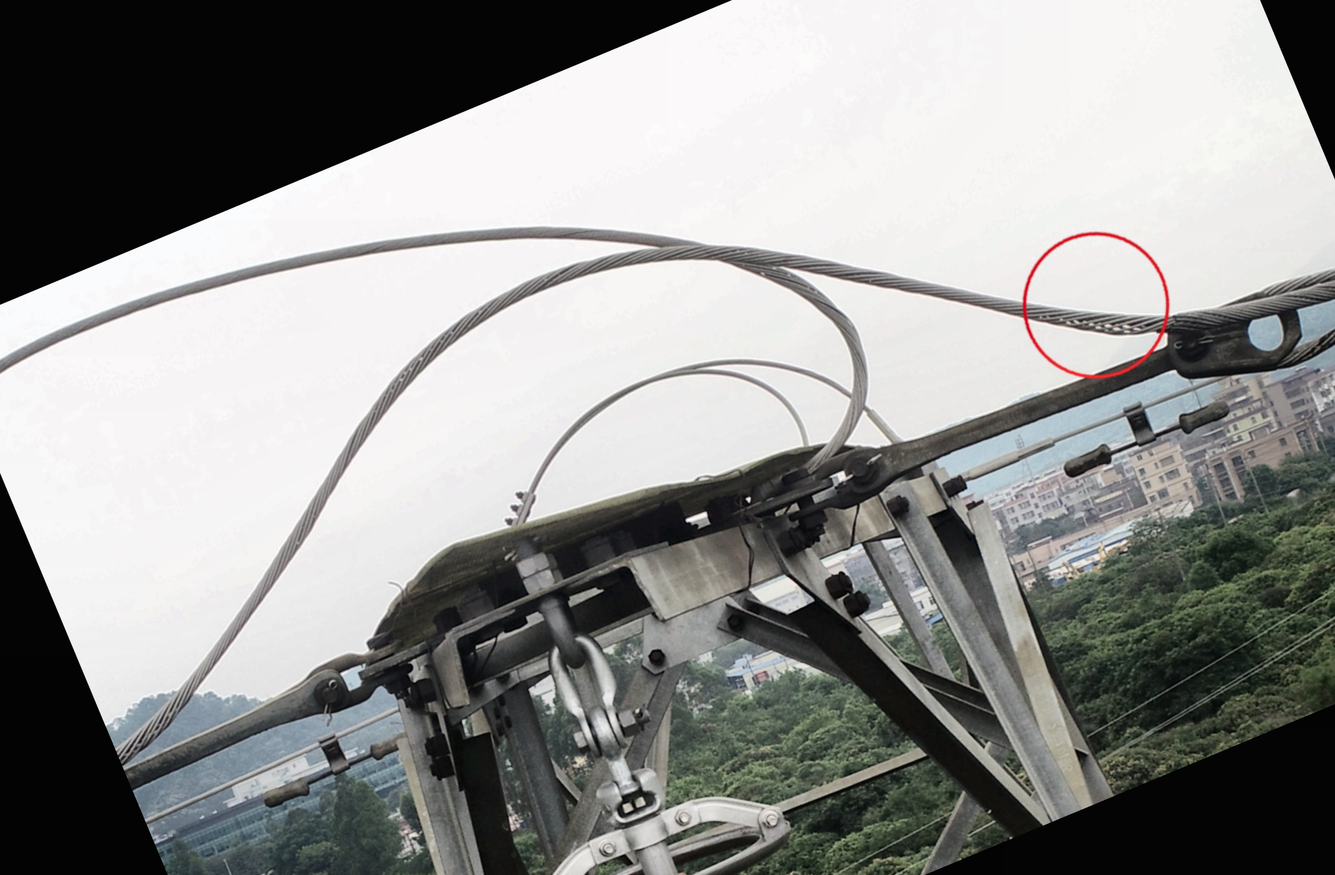damper: (1060, 392, 1234, 479), (261, 724, 409, 809)
